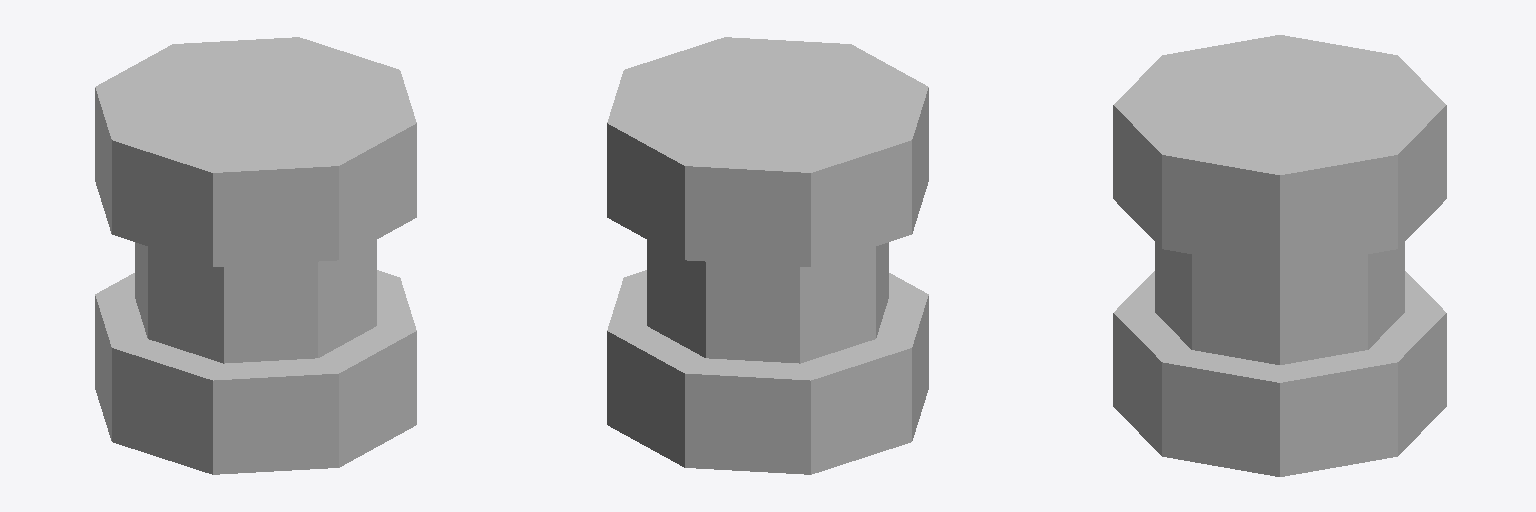
File: ss_pipe_inventory.obj
The picture shows the model from 3 angles: view 1: azimuth 30°, elevation 25°; view 2: azimuth 150°, elevation 25°; view 3: azimuth 270°, elevation 25°; orthographic projection.
Visible parts, largest first — view 1: ss_pipe_inventory_Cylinder.001; view 2: ss_pipe_inventory_Cylinder.001; view 3: ss_pipe_inventory_Cylinder.001.
Boxes of the visible parts, x1=… form: ss_pipe_inventory_Cylinder.001: x1=95, y1=37, x2=416, y2=474; ss_pipe_inventory_Cylinder.001: x1=607, y1=37, x2=928, y2=474; ss_pipe_inventory_Cylinder.001: x1=1113, y1=35, x2=1446, y2=476.
Bounding box in the file's own units: 1 × 1 × 1.